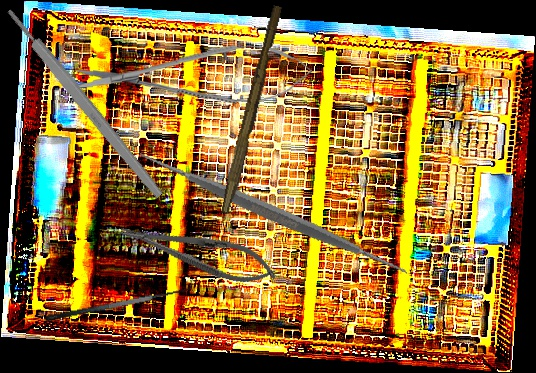Micro Scissor: (73, 39, 314, 111)
Needle Holder: (115, 210, 282, 294)
Scalpel Handle: (3, 5, 166, 201), (220, 3, 284, 217)
Spatula Surgical: (134, 74, 412, 351), (42, 276, 196, 323)
